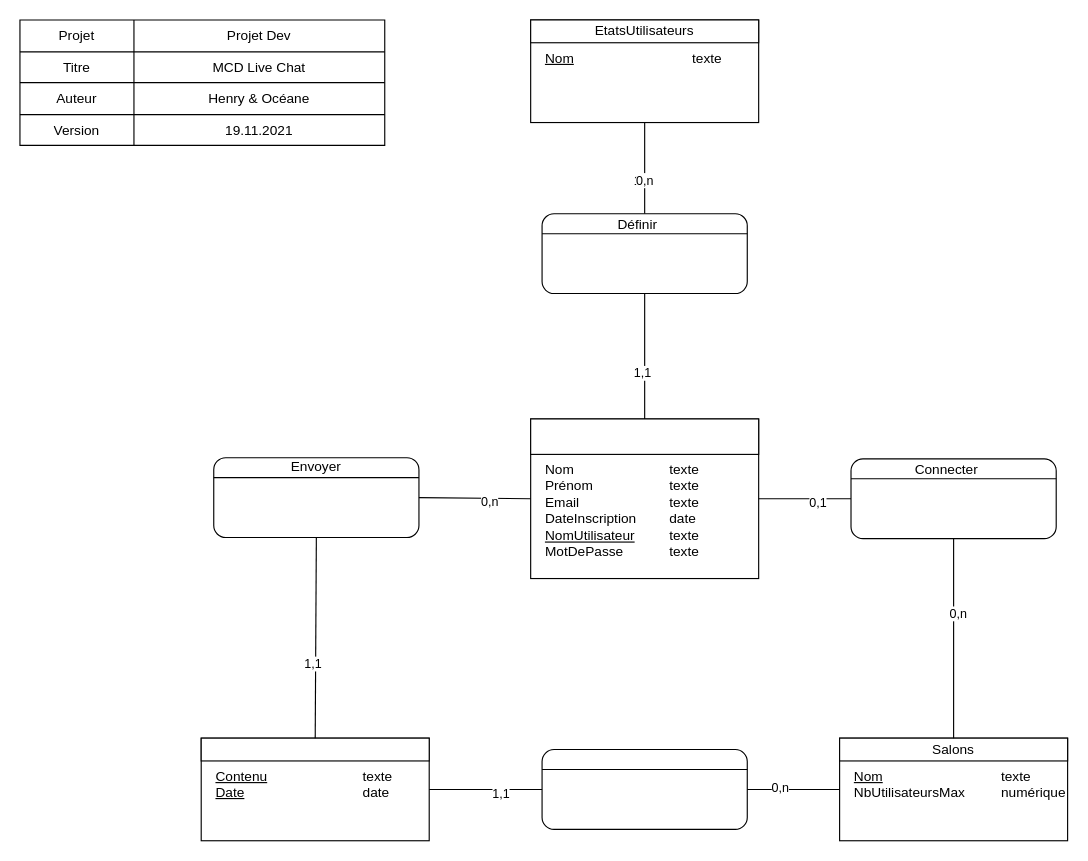
The diagram is 1088 pixels wide and 861 high, and some of its shapes have lost their labels. Each missing label, with the centre of its shape:
"Contenir" belongs at (644,788).
"Messages" belongs at (314,749).
"Utilisateurs" belongs at (644,436).
